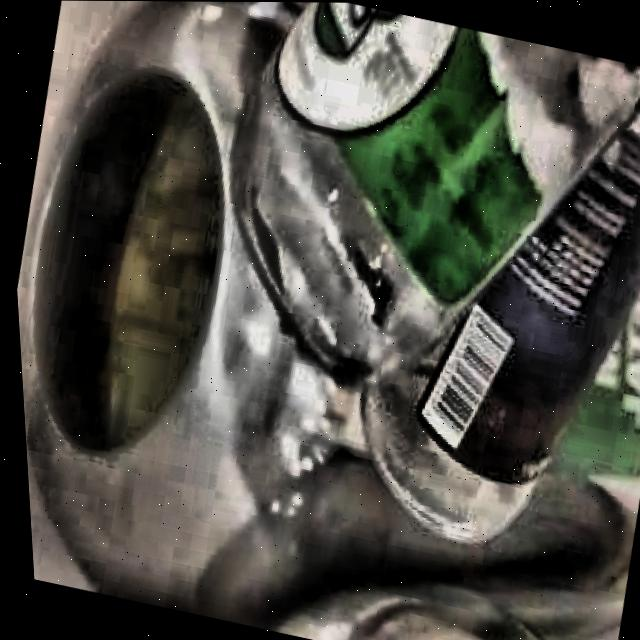glass: (229, 2, 640, 538)
